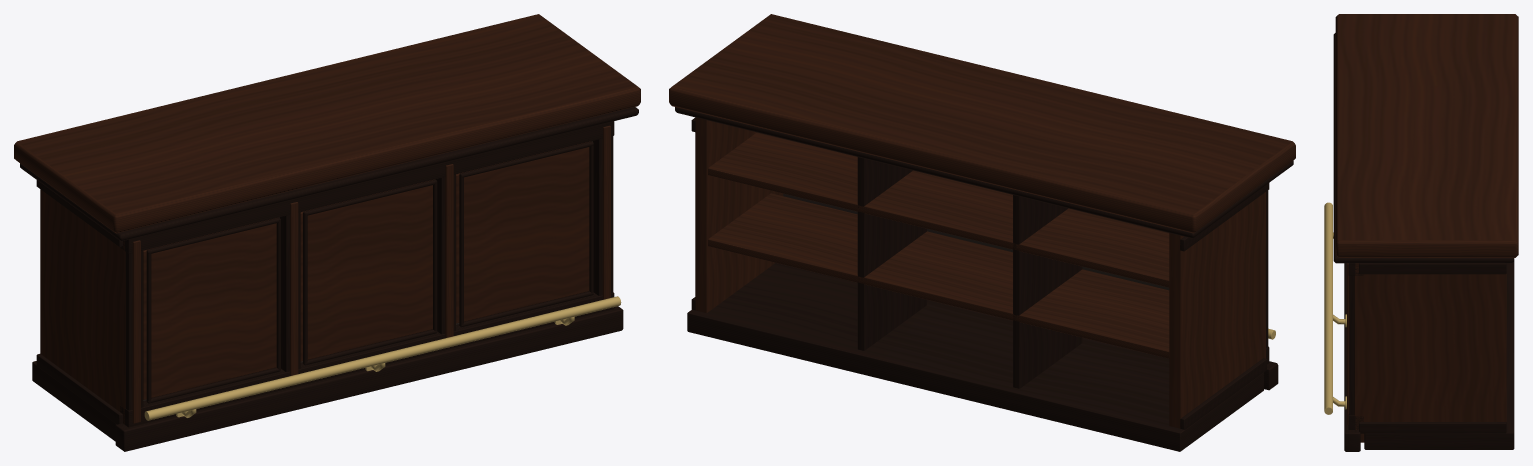
The model's file is S032_bar_counter_rebuilt.glb.
3 views of the same model, side by side, from view 1: azimuth 30°, elevation 25°; view 2: azimuth 150°, elevation 25°; view 3: azimuth 270°, elevation 25° (orthographic). The views are drawn at different scales.
Parts seen in each view (by area): view 1: Bar_counter_dark_chestnut_timber, Bar_counter_stiles_and_moldings, Bar_counter_aged_brass_footrail; view 2: Bar_counter_dark_chestnut_timber, Bar_counter_stiles_and_moldings, Bar_counter_deep_joints; view 3: Bar_counter_dark_chestnut_timber, Bar_counter_stiles_and_moldings, Bar_counter_aged_brass_footrail.
Part boxes in pixels (x1,y1,x2,y2): Bar_counter_dark_chestnut_timber: (14,14,640,424); Bar_counter_stiles_and_moldings: (20,107,638,451); Bar_counter_aged_brass_footrail: (144,296,621,420); Bar_counter_dark_chestnut_timber: (669,14,1295,428); Bar_counter_stiles_and_moldings: (675,107,1293,451); Bar_counter_deep_joints: (783,193,1169,290); Bar_counter_dark_chestnut_timber: (1335,14,1518,442); Bar_counter_stiles_and_moldings: (1333,33,1514,451); Bar_counter_aged_brass_footrail: (1324,202,1346,414).
Size of the model in its own units: 2.65 by 1.17 by 0.95.
4 materials, 2 textured.
